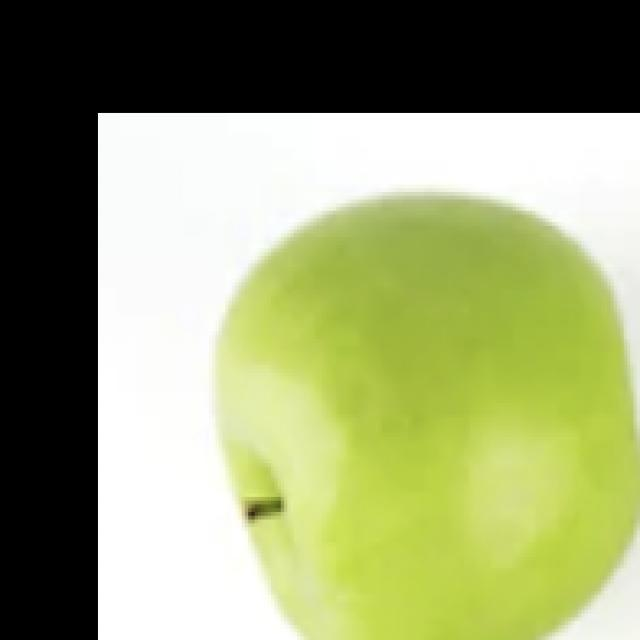Fresh Apple: (236, 196, 640, 640)
